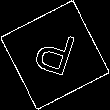P_S: (29, 25, 81, 85)
